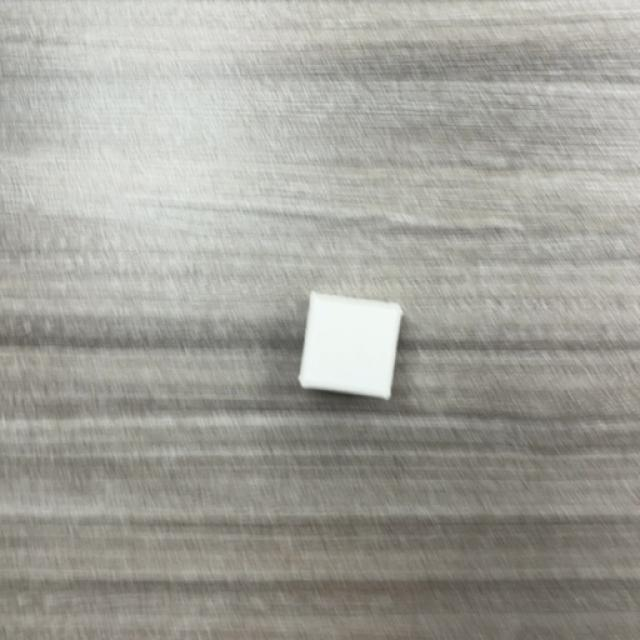Blanco: (298, 292, 402, 401)
